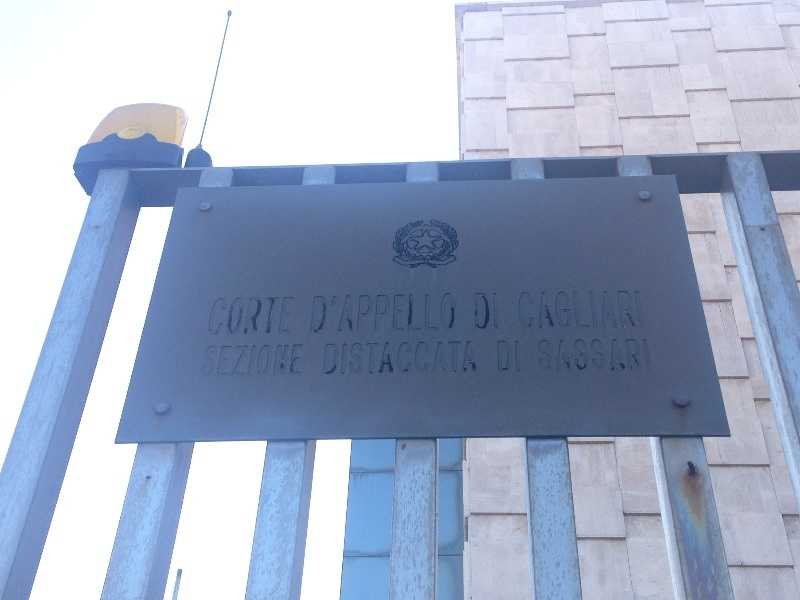text: (529, 287, 544, 332), (545, 287, 560, 332), (561, 287, 576, 332), (577, 287, 592, 332), (593, 287, 608, 332), (609, 287, 624, 332), (625, 287, 640, 332), (321, 291, 336, 335), (337, 291, 352, 335), (353, 291, 368, 335), (369, 291, 384, 335), (385, 291, 400, 335), (401, 291, 416, 335), (417, 291, 432, 335), (433, 291, 448, 335), (225, 295, 240, 338), (241, 295, 256, 338), (257, 295, 272, 338), (273, 295, 288, 338), (481, 291, 496, 333), (337, 339, 352, 377), (353, 339, 368, 377), (369, 339, 384, 377), (385, 339, 400, 377), (401, 339, 416, 377), (417, 339, 432, 377), (433, 339, 448, 377), (449, 339, 464, 377), (289, 344, 305, 379), (211, 295, 224, 338), (497, 338, 512, 375), (545, 338, 560, 374), (561, 338, 576, 374), (577, 338, 592, 374), (593, 338, 608, 374), (609, 338, 624, 374), (625, 338, 640, 374), (209, 344, 224, 379), (225, 344, 240, 379), (241, 344, 256, 379), (257, 344, 272, 379), (273, 344, 288, 379), (465, 339, 478, 377), (641, 338, 654, 374), (518, 287, 528, 332), (326, 339, 336, 377), (513, 338, 523, 375), (449, 291, 457, 335), (289, 295, 297, 338), (313, 291, 320, 335), (473, 291, 480, 333), (537, 338, 544, 374), (641, 287, 646, 332), (497, 291, 500, 333), (206, 344, 208, 379)
